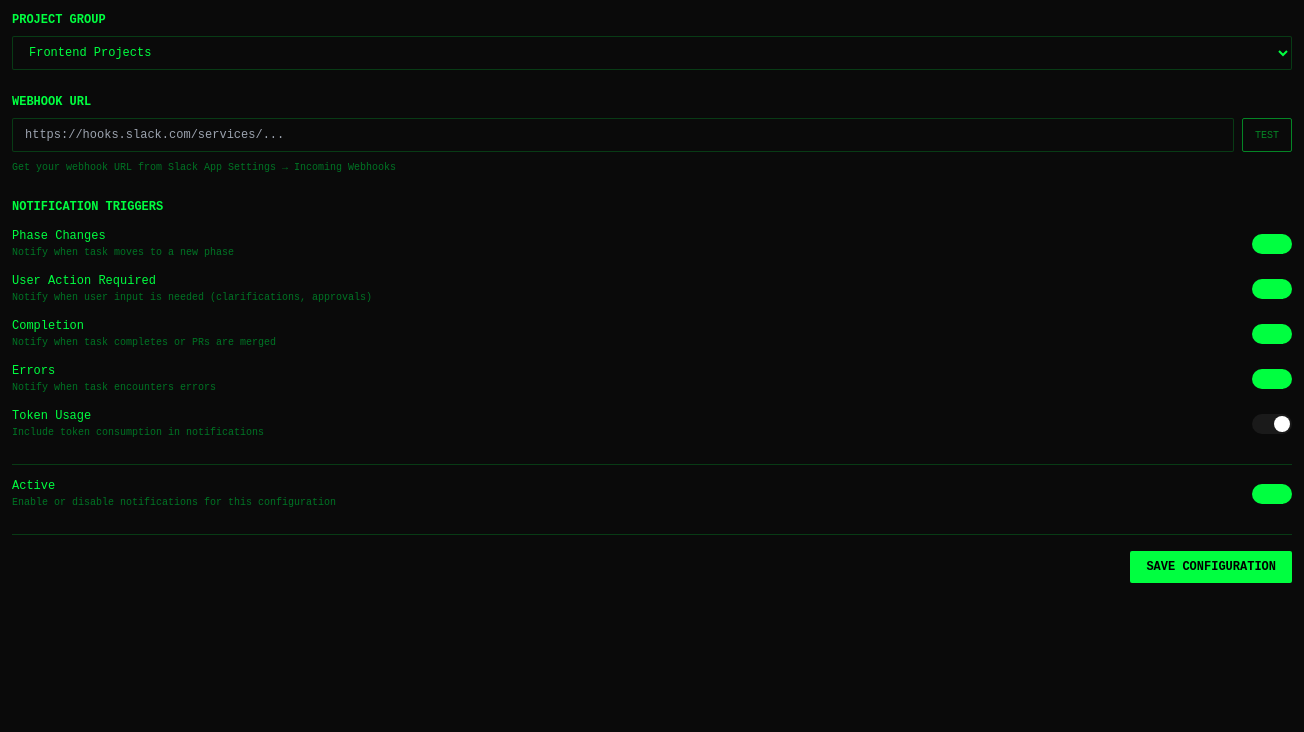
Test case: SlackConfigForm › Form Submission › validates webhook URL format
# Enter invalid webhook URL
Step 1. Type "invalid-url" into the field labelled "Webhook URL" → (623, 135), box [12,118,1234,152]
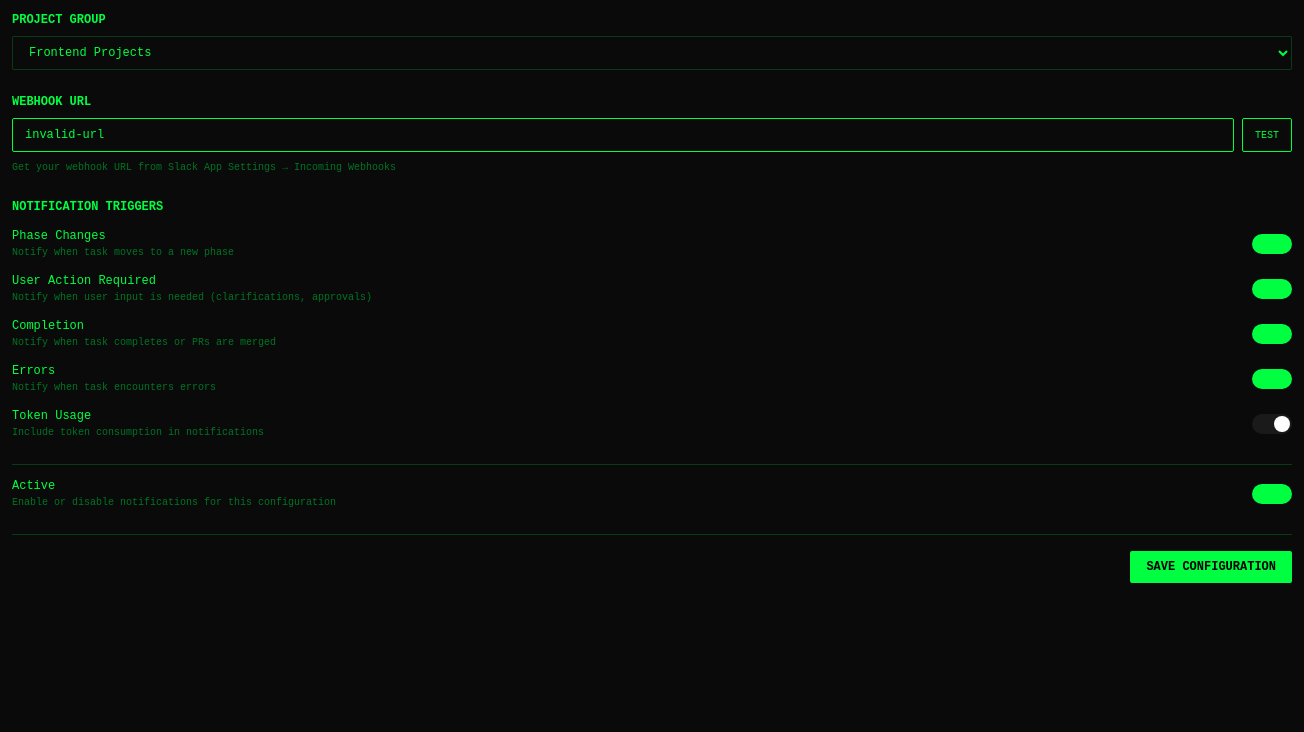
# Click save
Step 2. Click the button with test id "save-config-button" → (1211, 567), box [1130,551,1292,583]
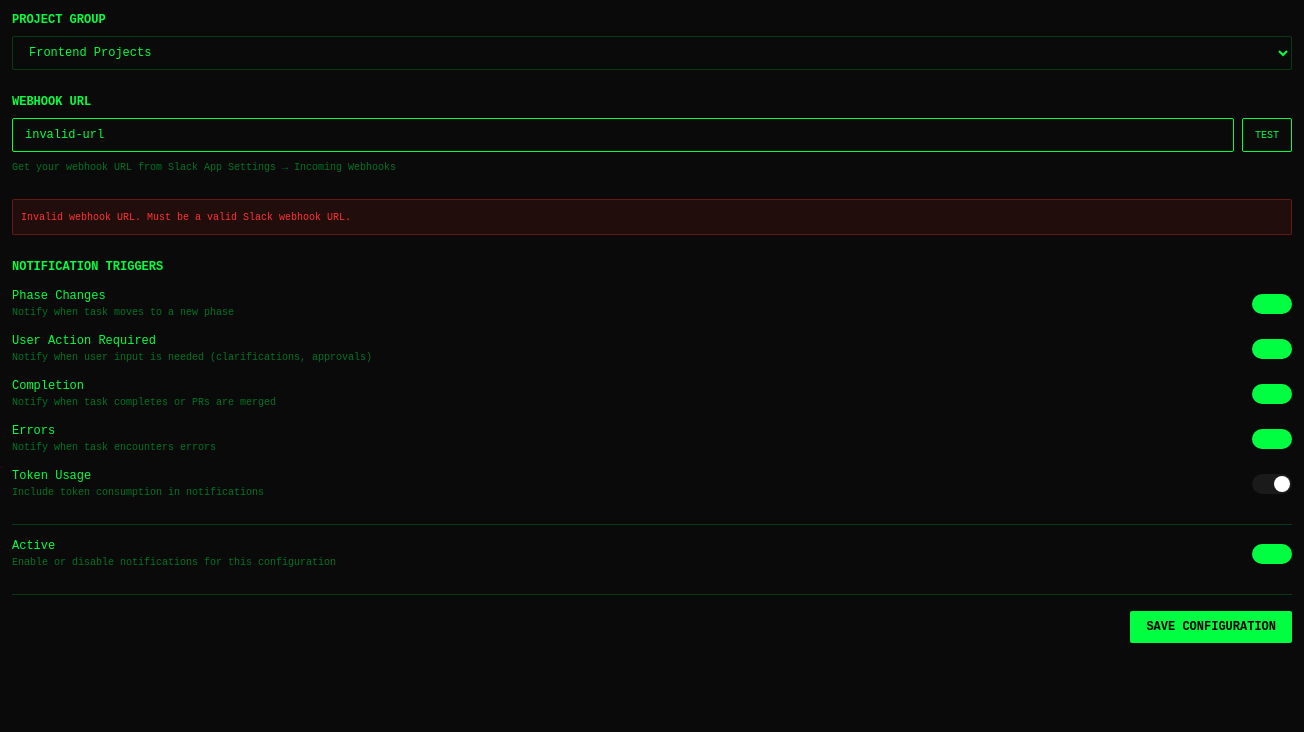
Check: the text "Invalid webhook URL. Must be a valid Slack webhook URL." is shown, box [21,212,351,223]
